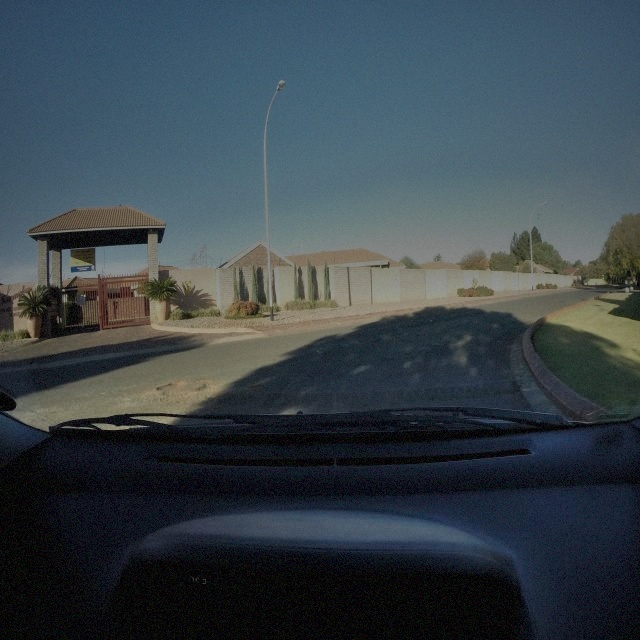pothole: (154, 380, 187, 389), (193, 378, 214, 386), (249, 382, 265, 391)
